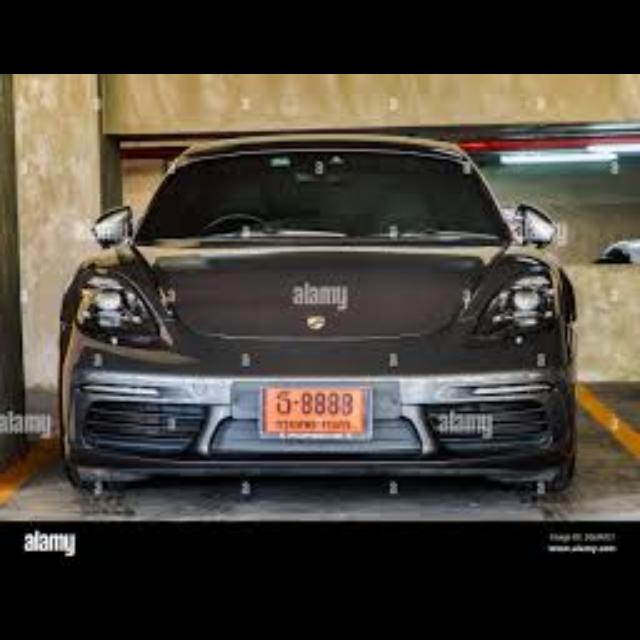licenseplate: (260, 378, 374, 439)
